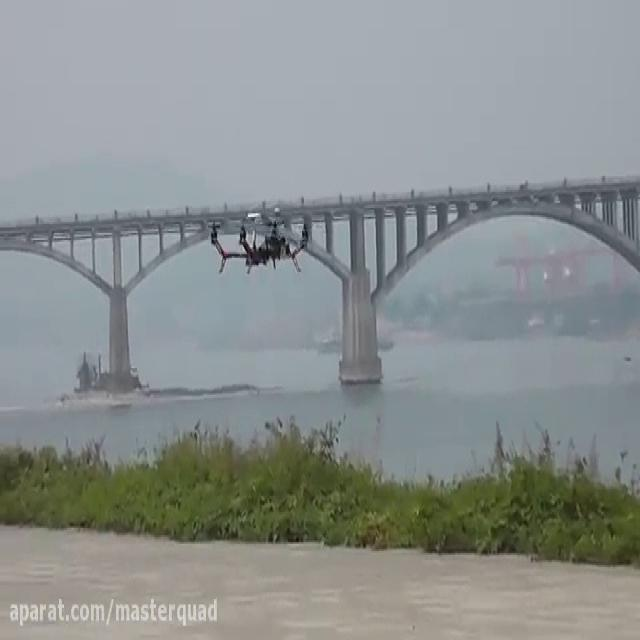drone: (203, 203, 314, 279)
